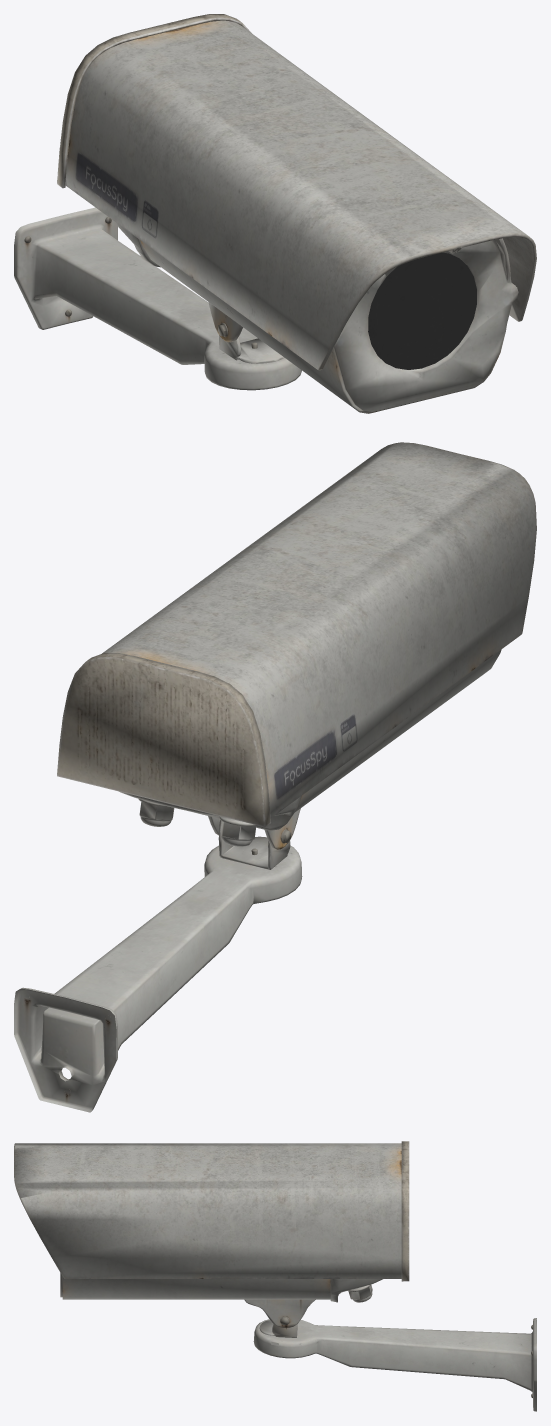
Rendered from security_camera_01.glb.
3 renders of one model, top to bottom at view 1: azimuth 30°, elevation 25°; view 2: azimuth 150°, elevation 25°; view 3: azimuth 270°, elevation 25°, orthographic. The views are drawn at different scales.
Parts seen in each view (by area): view 1: security_camera_01; view 2: security_camera_01; view 3: security_camera_01.
Part boxes in pixels (x1,y1,x2,y2): security_camera_01: [14, 14, 536, 413]; security_camera_01: [14, 442, 536, 1112]; security_camera_01: [14, 1141, 536, 1411].
Size of the model in its own units: 0.1696 by 0.286 by 0.5537.
Materials: 2 (2 with a texture image).
